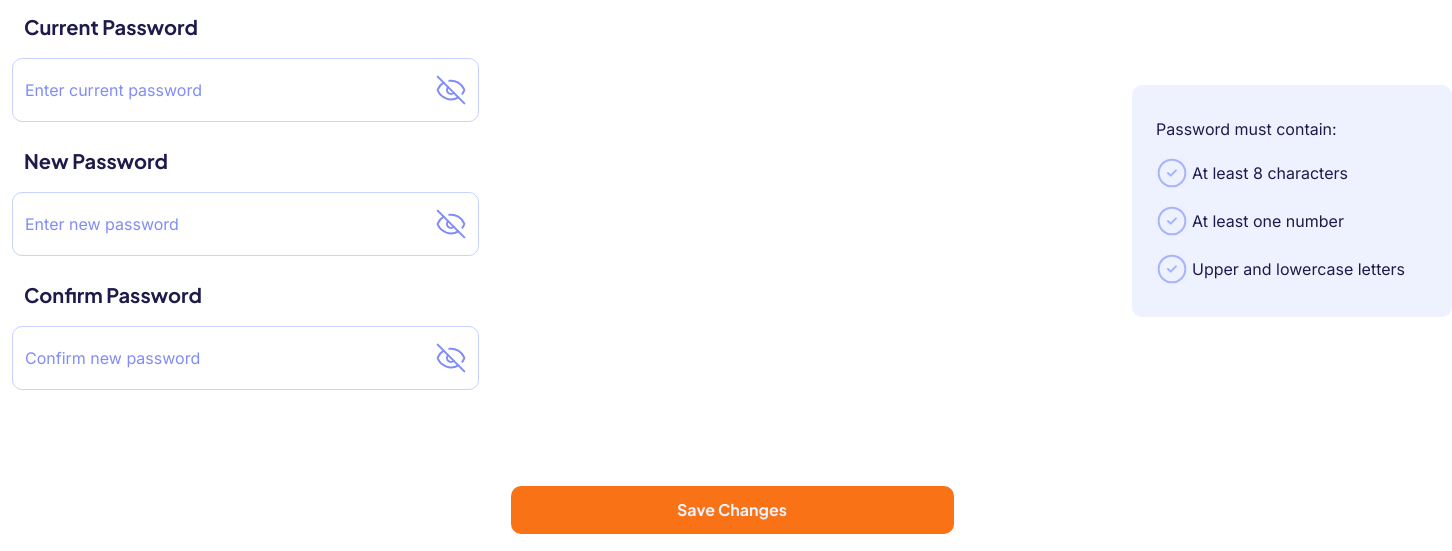
Test: ChangePasswordForm — submitting › falls back to the envelope message when no field is named
In the password field labelled "Current Password": (246, 90) [12,58,479,122], type "OldPassw0rd"
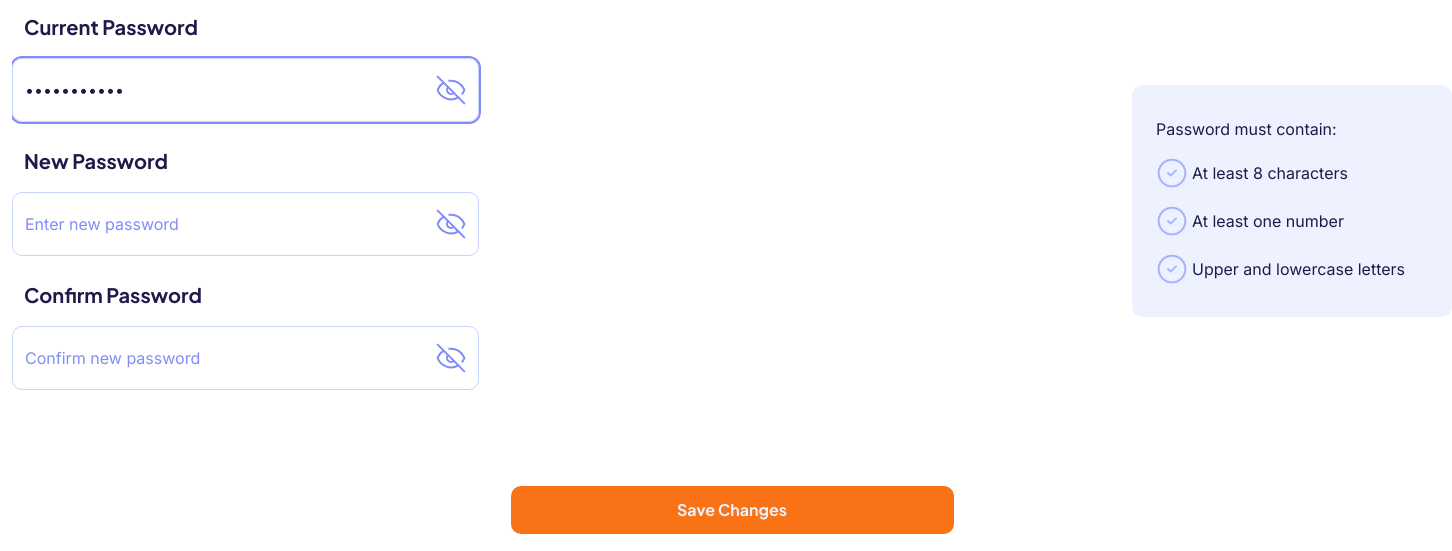
In the password field labelled "New Password": (246, 224) [12,192,479,256], type "NewPassw0rd"
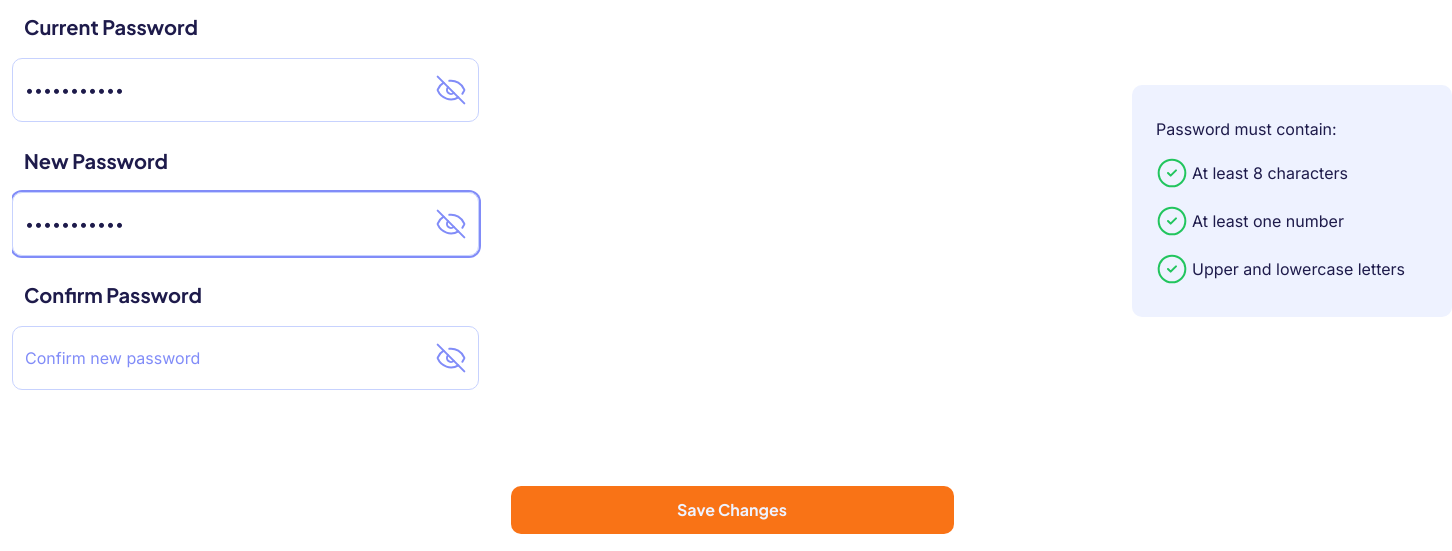
In the password field labelled "Confirm Password": (246, 358) [12,326,479,390], type "NewPassw0rd"
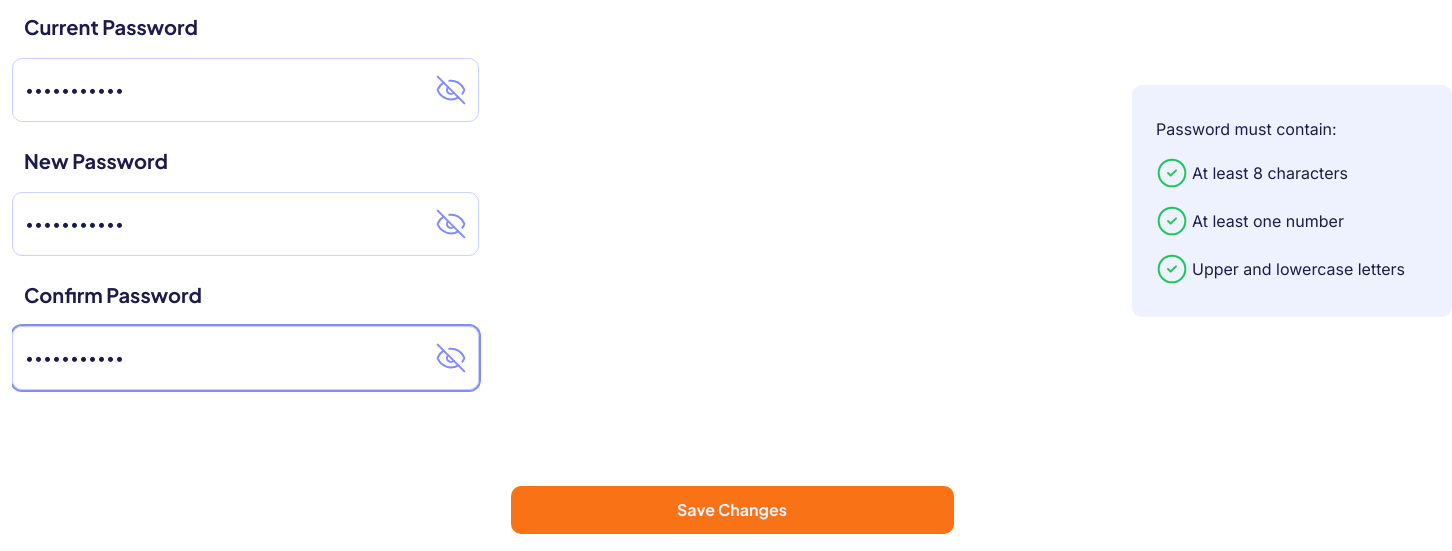
Click the button "Save Changes": (732, 510) [510,486,954,534]
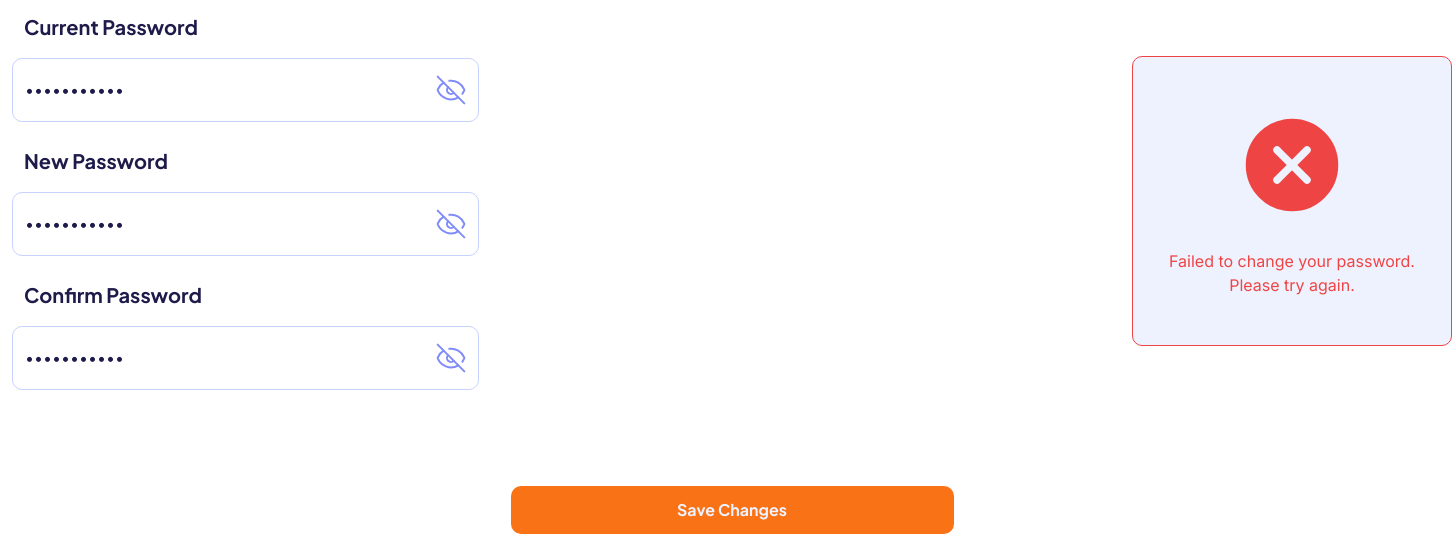
Now the text "Failed to change your password. Please try again." is shown, box [1157,249,1427,297]
